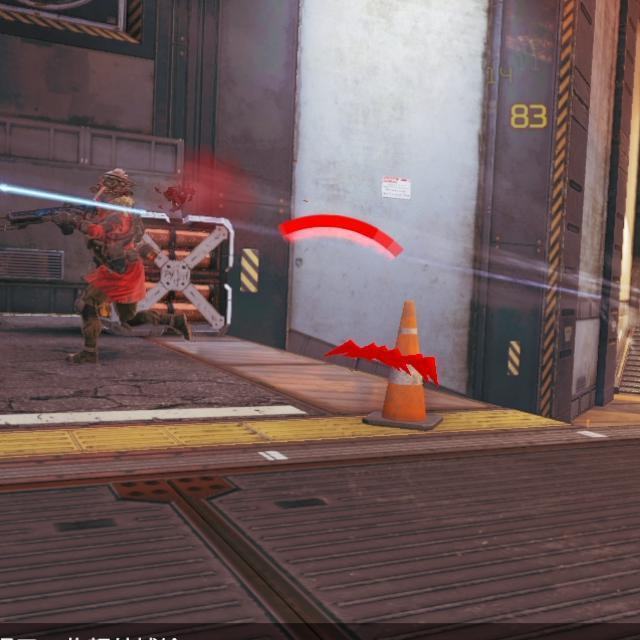avatar: (72, 167, 148, 369)
